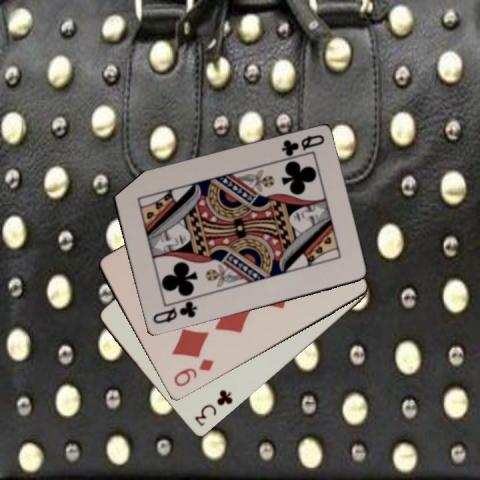3c: (191, 387, 234, 428)
9d: (170, 356, 215, 389)
Qc: (149, 299, 199, 326), (278, 132, 326, 158)
